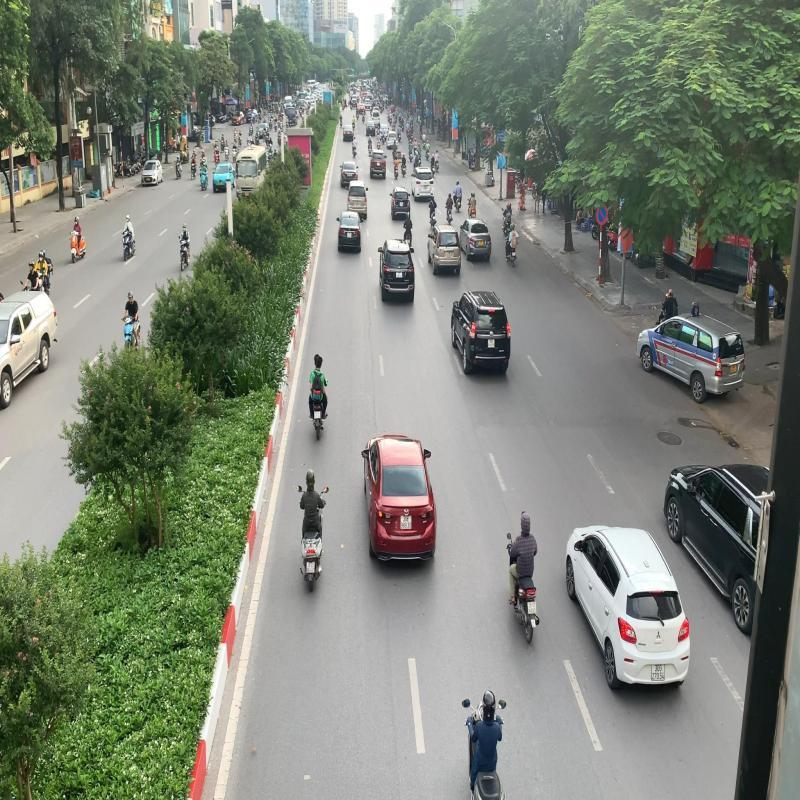helmet: (481, 690, 496, 718), (305, 468, 315, 489)
licenseplate: (306, 561, 315, 574), (314, 411, 320, 420)
motorcyclist: (461, 687, 508, 800), (296, 468, 329, 593), (308, 354, 329, 440)
nohelmet: (316, 356, 322, 368), (314, 353, 320, 362)
